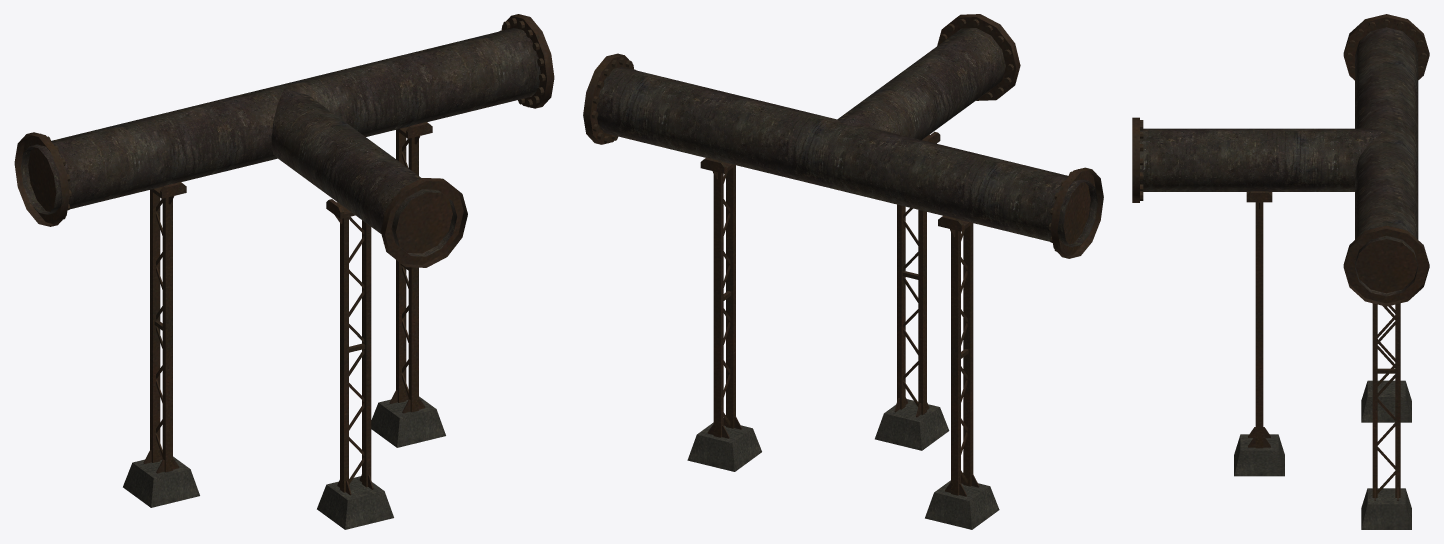
File: pipe_cx_4.obj
The picture shows the model from 3 angles, left to right: view 1: azimuth 30°, elevation 25°; view 2: azimuth 150°, elevation 25°; view 3: azimuth 270°, elevation 25°; orthographic projection. The views are drawn at different scales.
Visible parts, largest first — view 1: pipe_cx_4; view 2: pipe_cx_4; view 3: pipe_cx_4.
Boxes of the visible parts, x1,y1,x2,y2 form: pipe_cx_4: (14, 14, 554, 529); pipe_cx_4: (583, 14, 1103, 529); pipe_cx_4: (1132, 14, 1429, 529).
Bounding box in the file's own units: 4 × 2.99 × 2.34.
